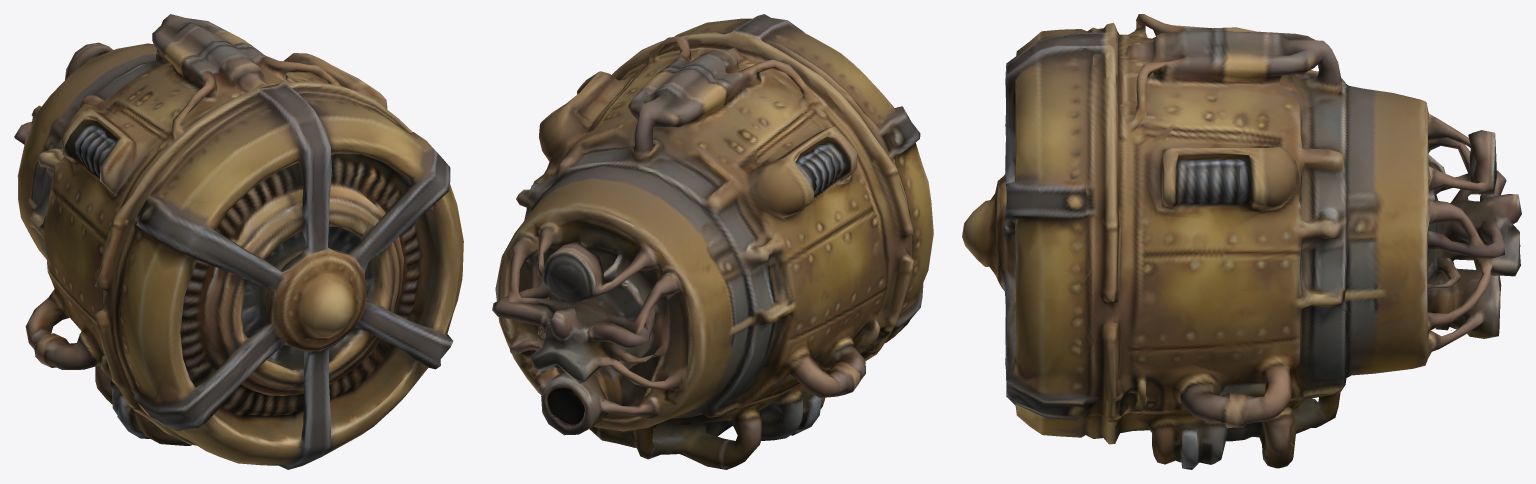
The model's file is Brasswake underside lift engine cluster.glb.
3 renders of one model, left to right at view 1: azimuth 30°, elevation 25°; view 2: azimuth 150°, elevation 25°; view 3: azimuth 270°, elevation 25°, orthographic. The views are drawn at different scales.
Parts seen in each view (by area): view 1: EngineCore; view 2: EngineCore; view 3: EngineCore.
Boxes of the visible parts, x1=… form: EngineCore: x1=14, y1=14, x2=463, y2=469; EngineCore: x1=492, y1=14, x2=933, y2=469; EngineCore: x1=962, y1=14, x2=1521, y2=469.
Size of the model in its own units: 0.4997 by 0.5164 by 0.65.
1 material, 1 textured.
